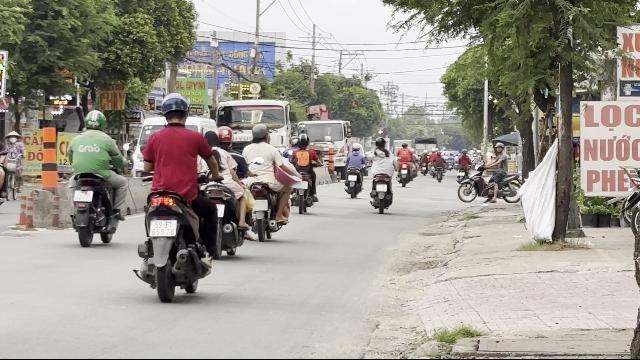helmet: (158, 92, 190, 126), (82, 109, 106, 131), (250, 122, 270, 142), (215, 126, 233, 146)
licenseplate: (151, 219, 177, 237), (74, 190, 92, 201), (252, 200, 268, 210)
motorcyclist: (132, 92, 220, 302), (65, 108, 129, 246), (240, 122, 292, 240), (205, 124, 249, 258)
